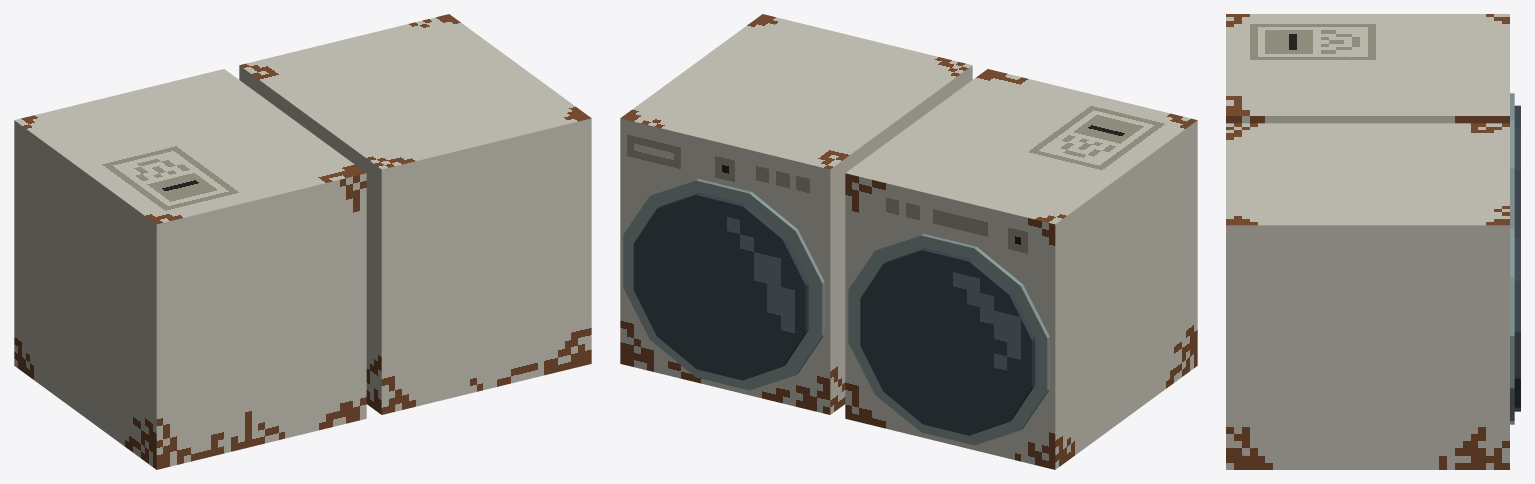
The model's file is washer_dryer_set.gltf.
3 renders of one model, left to right at view 1: azimuth 30°, elevation 25°; view 2: azimuth 150°, elevation 25°; view 3: azimuth 270°, elevation 25°, orthographic.
Parts seen in each view (by area): view 1: cube (×2); view 2: cube (×2), cylinder (×4); view 3: cube (×2), cylinder (×4).
Part boxes in pixels (box(x1,y1,x2,y2)): cube (×2): box(14, 14, 591, 469); cube (×2): box(620, 14, 1197, 469); cylinder (×4): box(623, 179, 1049, 445); cube (×2): box(1226, 14, 1509, 469); cylinder (×4): box(1510, 93, 1520, 424).
Bounding box in the file's own units: 0.4984 × 0.2688 × 0.2937.
Materials: 3 (3 with a texture image).
